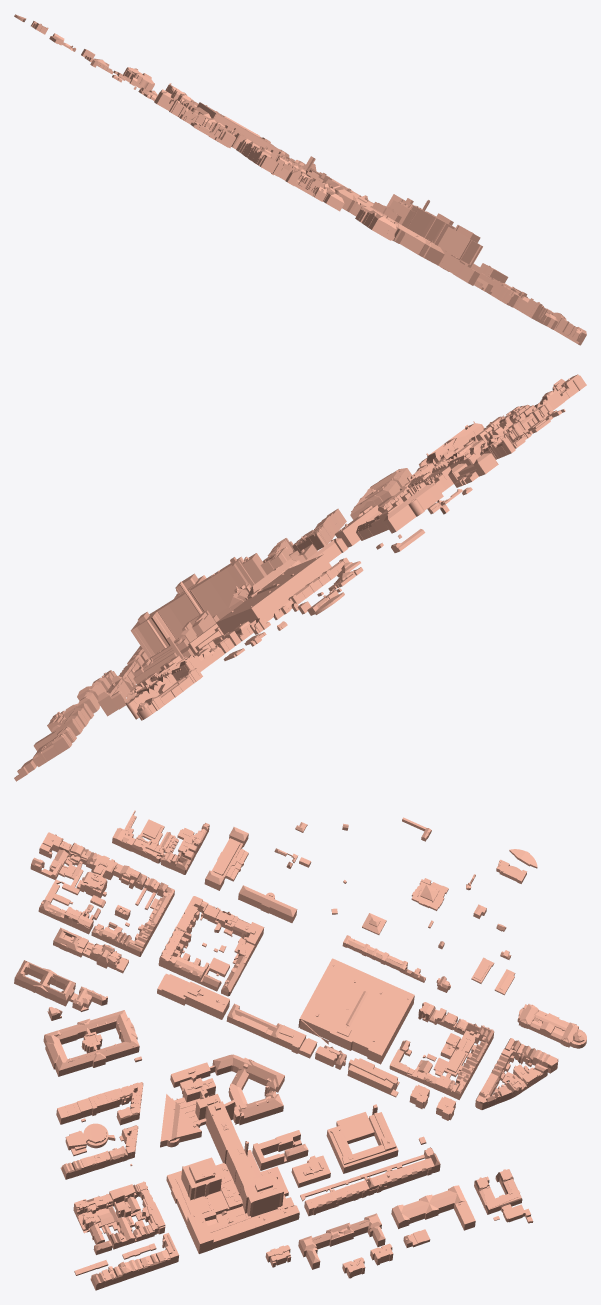
3 renders of one model, top to bottom at view 1: azimuth 30°, elevation 25°; view 2: azimuth 150°, elevation 25°; view 3: azimuth 270°, elevation 25°, orthographic. The views are drawn at different scales.
Bounding box in the file's own units: 1.74e+07 × 1.29e+07 × 2.23e+07.
